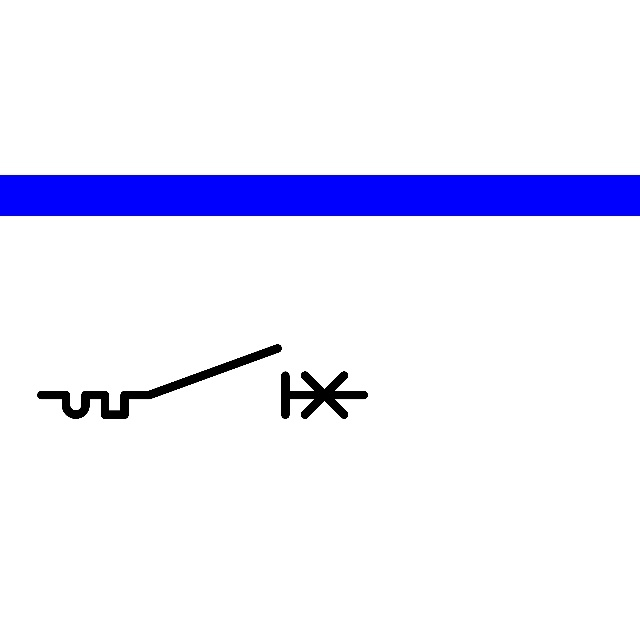interruptor_termomagnetico: (33, 340, 372, 423)
